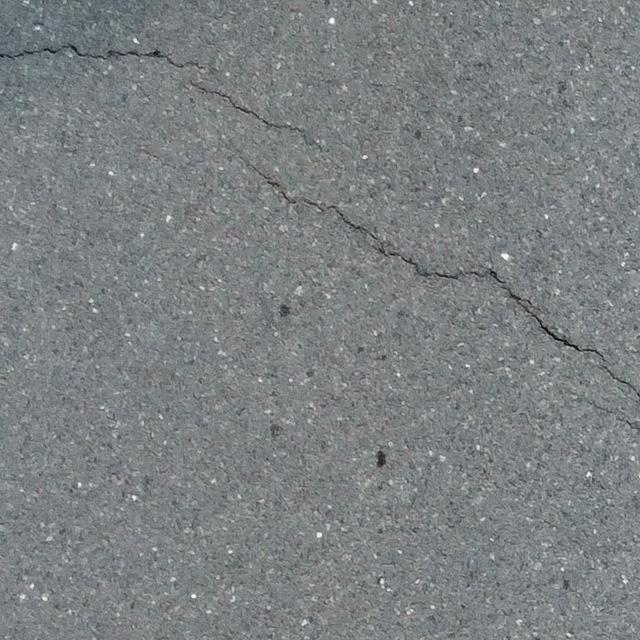TransverseCrack: (234, 155, 640, 399), (189, 79, 327, 151), (1, 46, 201, 69)
